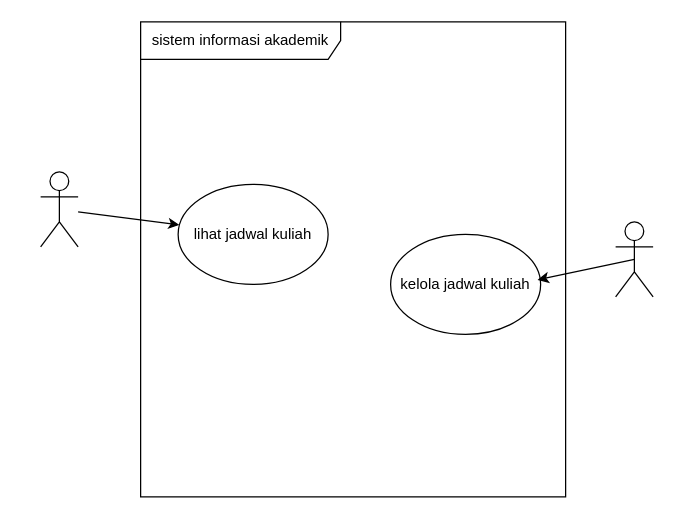
Image size: 675x519. Some labels were removed from this diagram. The centre of each missing label's shape, as x and y in pixels:
atmin: point (633, 259)
mahasiswa: point (58, 209)
